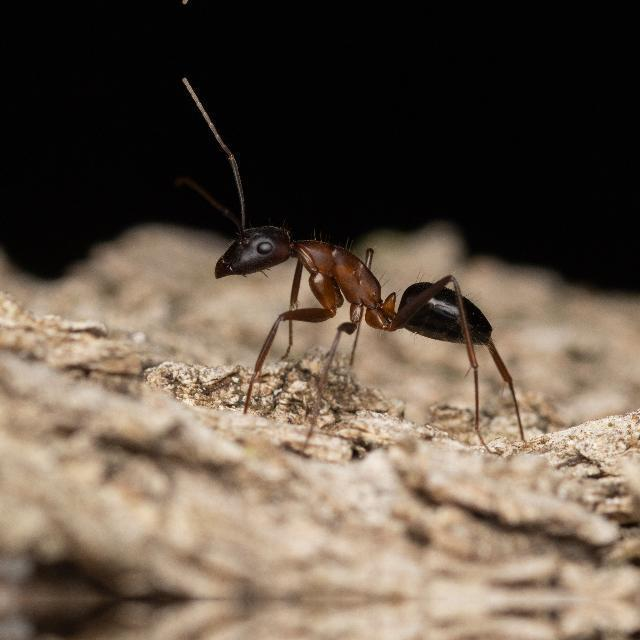Camponotus: (216, 195, 494, 387)
